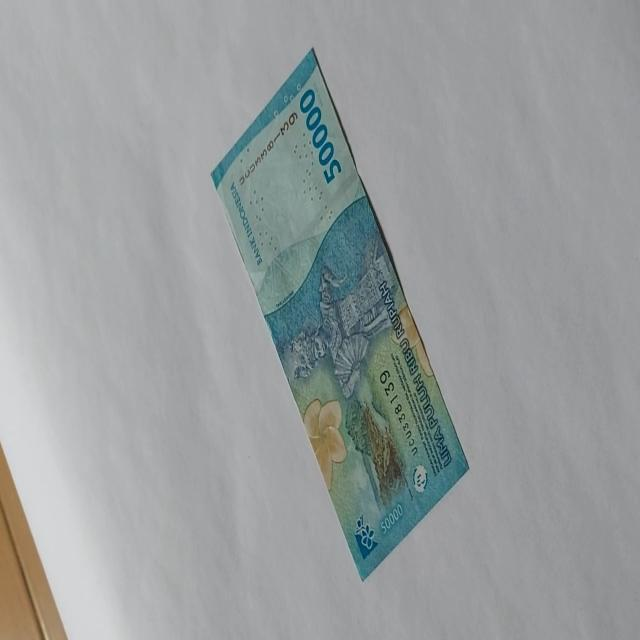lima puluh ribu rupiah: (210, 44, 470, 582), (236, 109, 298, 188)
